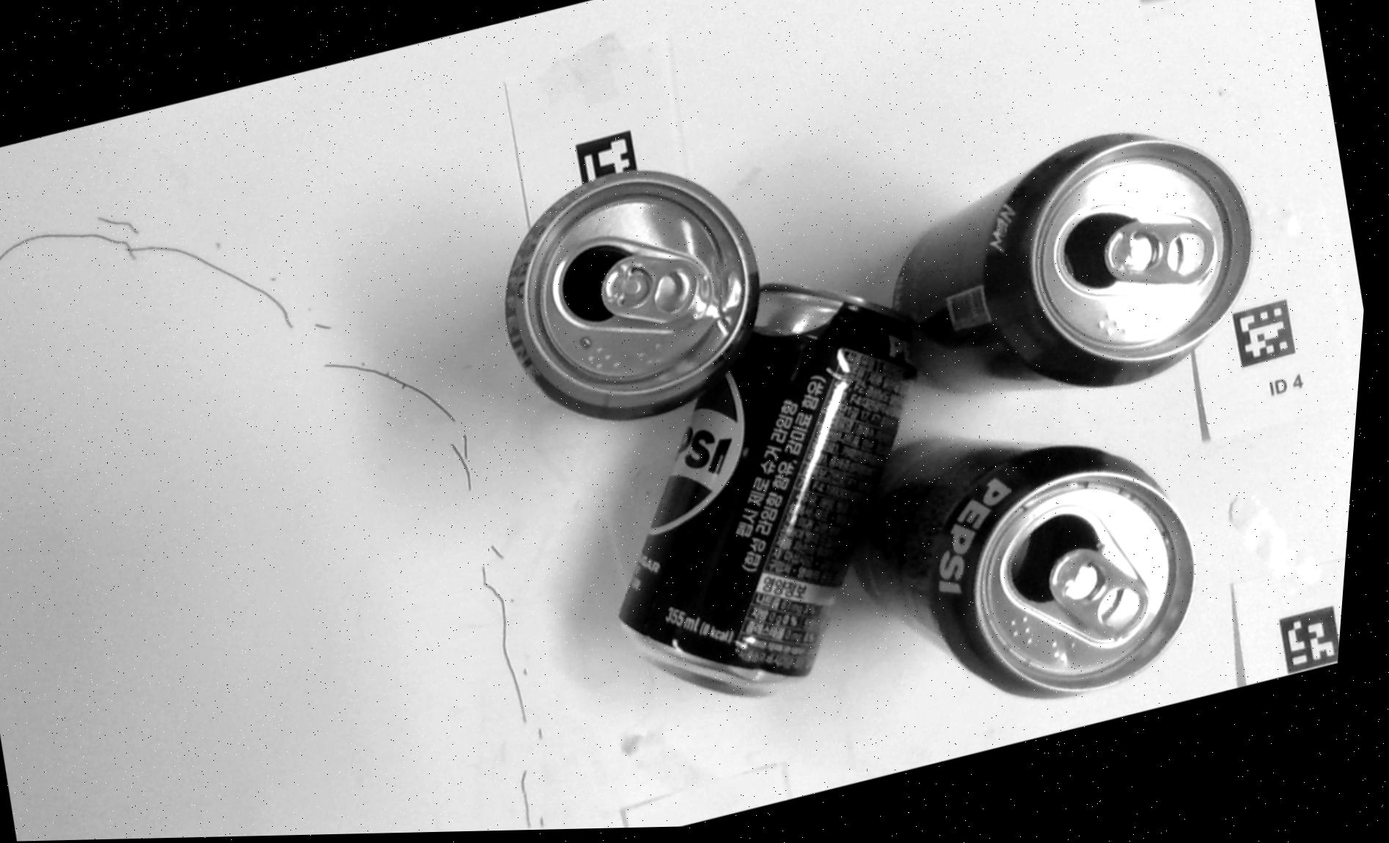can_coke_decaf: (505, 171, 759, 419)
can_coke_zero: (894, 133, 1251, 387)
can_pepsi: (857, 438, 1193, 696)
can_pepsi_zero: (619, 285, 914, 694)
